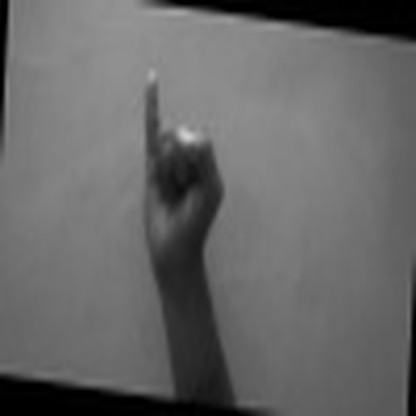i: (122, 54, 242, 309)
